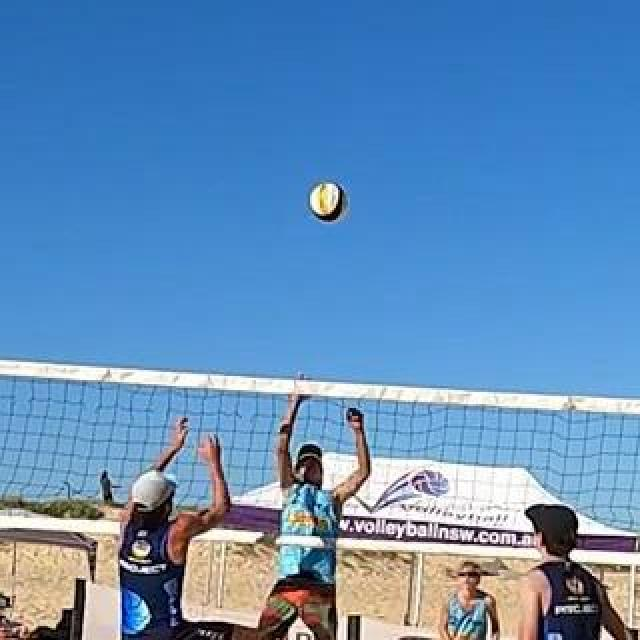volleyball: (310, 182, 348, 220)
